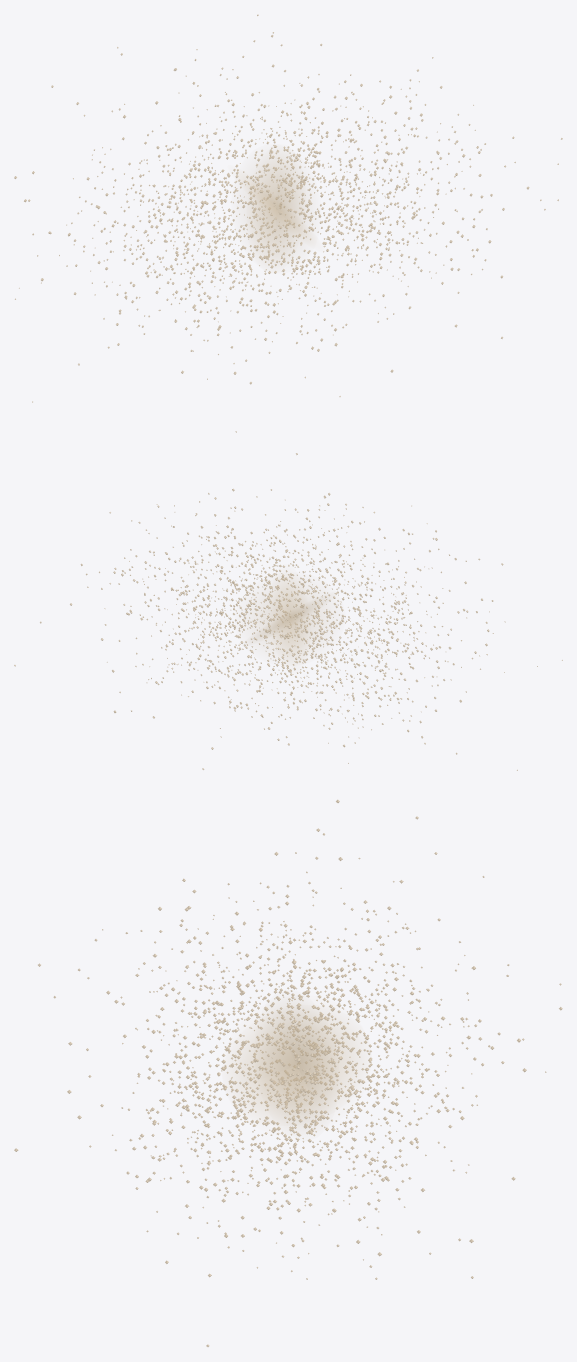
The picture shows the model from 3 angles, top to bottom: view 1: azimuth 30°, elevation 25°; view 2: azimuth 150°, elevation 25°; view 3: azimuth 270°, elevation 25°; orthographic projection. The views are drawn at different scales.
Size of the model in its own units: 8.08 by 4.3 by 5.93.
